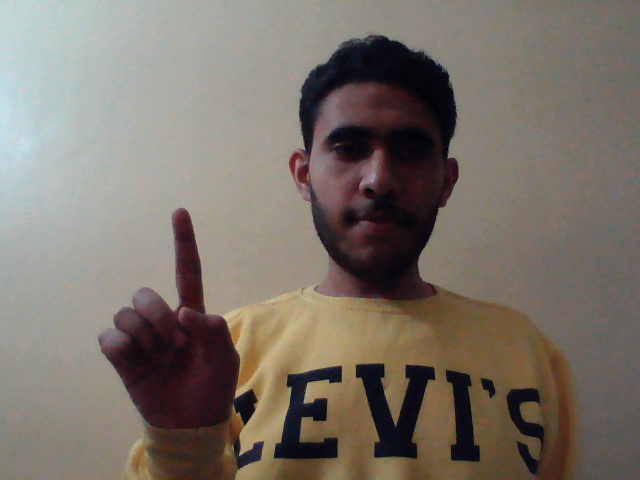D: (90, 201, 246, 434)
